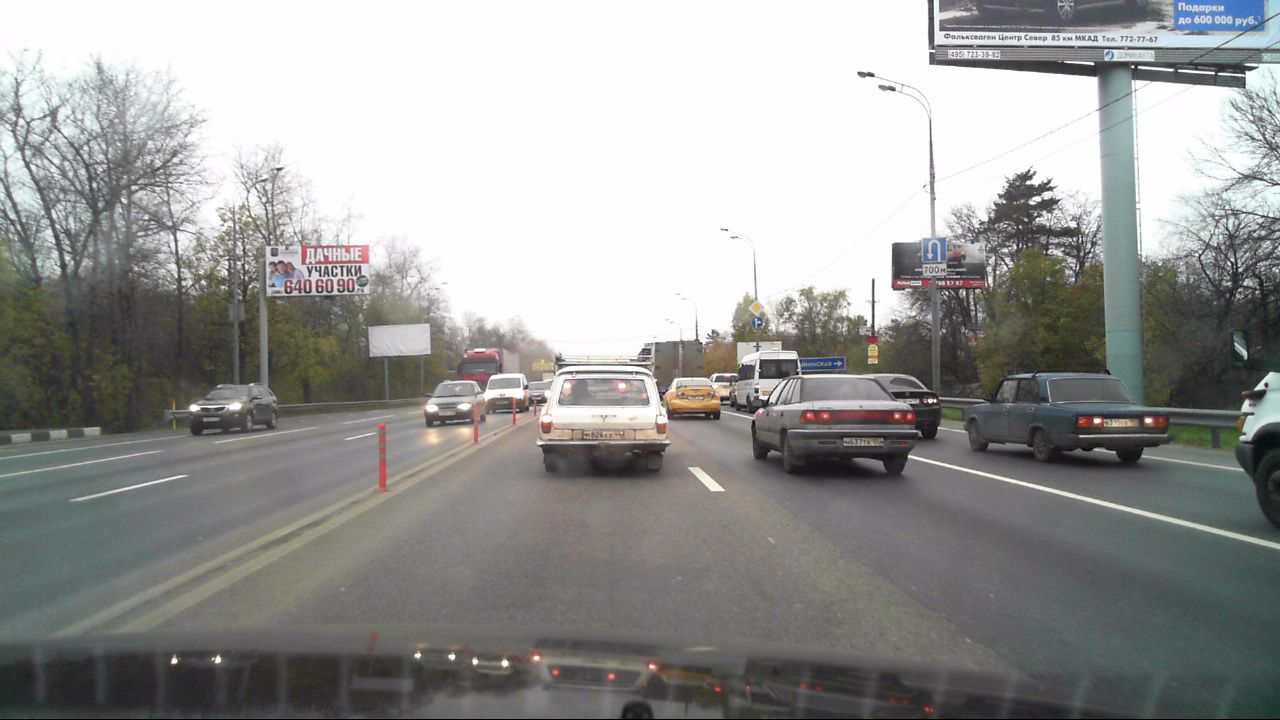U-turn: (922, 238, 946, 262)
